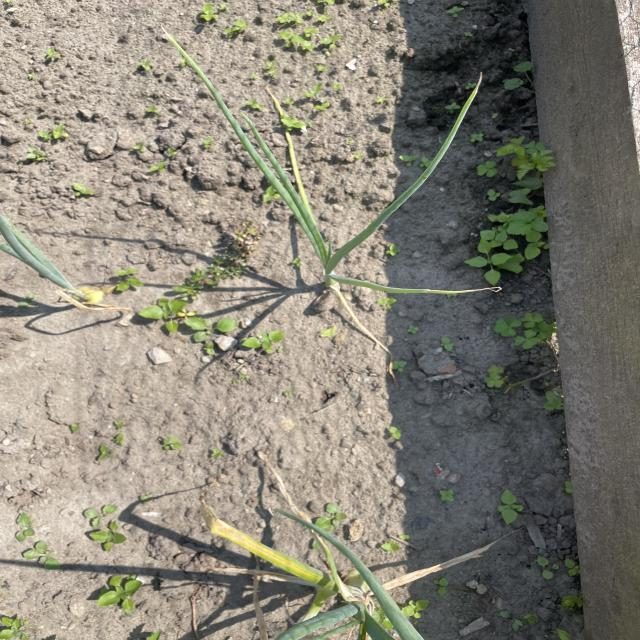Onion: (277, 186, 421, 318), (0, 220, 126, 319), (283, 563, 432, 640)
weed: (475, 198, 554, 289), (474, 131, 556, 198), (487, 308, 569, 352), (272, 8, 348, 52), (14, 513, 66, 571), (90, 572, 156, 614), (176, 313, 243, 346), (82, 504, 129, 549), (25, 118, 67, 168), (231, 328, 292, 362), (198, 4, 256, 38), (145, 292, 190, 335), (537, 562, 586, 591), (493, 488, 524, 529), (115, 264, 152, 298), (0, 613, 34, 640), (402, 596, 427, 620)
